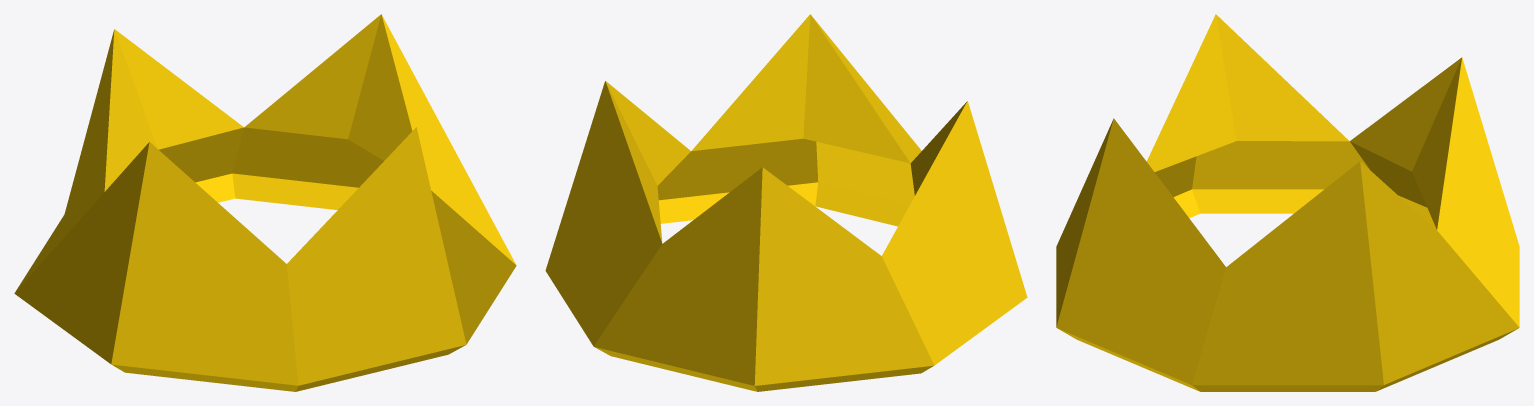
The model's file is crown-hat.gltf.
3 renders of one model, left to right at view 1: azimuth 30°, elevation 25°; view 2: azimuth 150°, elevation 25°; view 3: azimuth 270°, elevation 25°, orthographic. The views are drawn at different scales.
Visible parts, largest first — view 1: crown; view 2: crown; view 3: crown.
Boxes of the visible parts, x1=… form: crown: x1=14, y1=14, x2=516, y2=391; crown: x1=545, y1=14, x2=1027, y2=391; crown: x1=1056, y1=14, x2=1519, y2=391.
Size of the model in its own units: 0.2058 by 0.1055 by 0.2058.
Materials: 1 (1 with a texture image).
